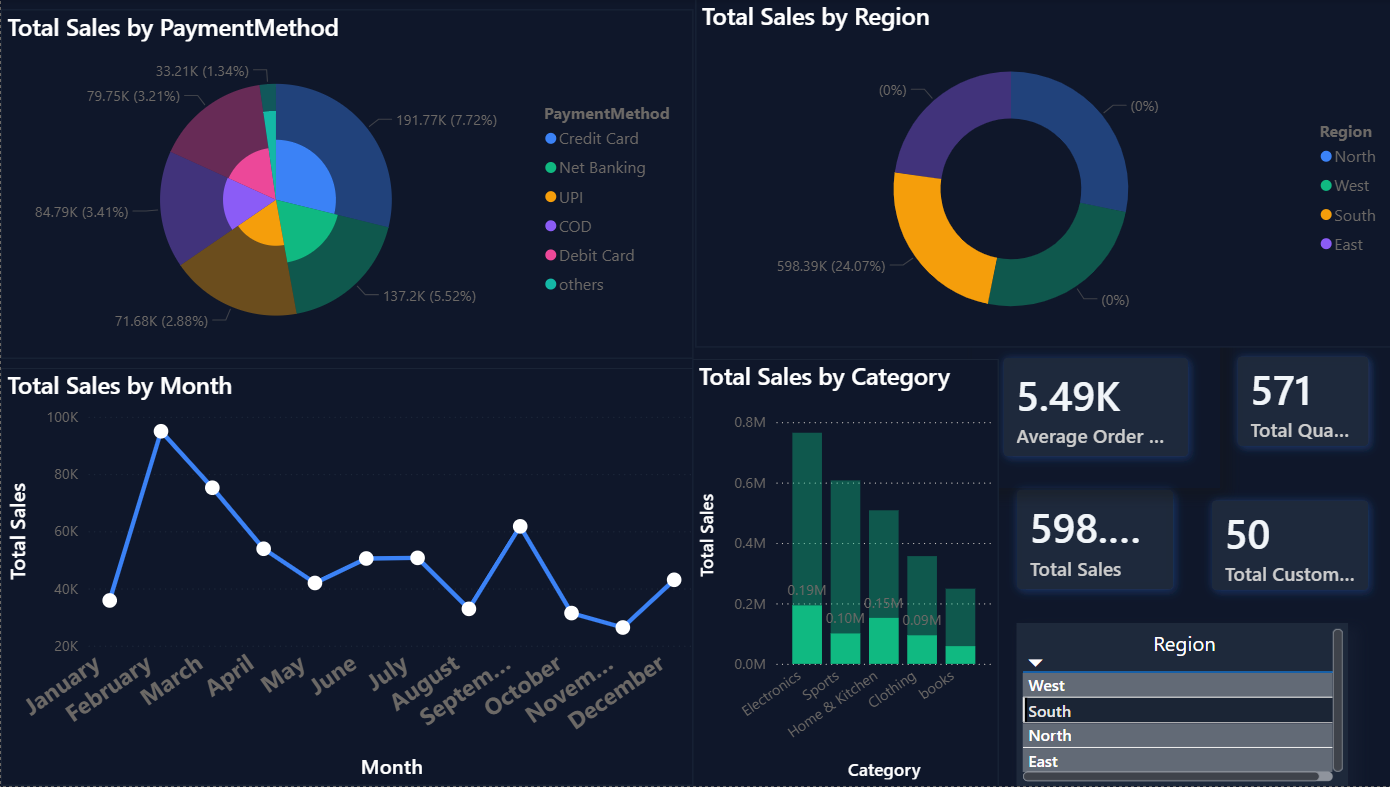

What the dashboard file says about the page in this screenshot:
{"tool":"powerbi","page":{"name":"Page 1","canvas":[1280,720],"ordinal":0},"visuals":[{"type":"cardVisual","fields":{"Data":["Sales_Raw.Total Sales"]},"box":[900.5,420.5,201.6,149.8],"z":0},{"type":"cardVisual","fields":{"Data":["Sales_Raw.Average Order Value"]},"box":[887.8,298.5,227.2,148.3],"z":1000},{"type":"cardVisual","fields":{"Data":["Sales_Raw.Total Quantity"]},"box":[1102.1,297.6,178.6,140.2],"z":2000},{"type":"cardVisual","fields":{"Data":["Sales_Raw.Total Customers"]},"box":[1079,430.1,201.6,140.2],"z":3000},{"type":"lineChart","fields":{"Category":["Sales_Raw.OrderDate.Variation.Date Hierarchy.Month"],"Y":["Sales_Raw.Total Sales"]},"box":[0,338,640,382],"z":4000},{"type":"clusteredColumnChart","fields":{"Category":["Products.Category"],"Y":["Sales_Raw.Total Sales"]},"box":[633.1,328.8,279.7,391.2],"z":5000},{"type":"donutChart","fields":{"Category":["Sales_Raw.Region"],"Y":["Sales_Raw.Total Sales"]},"box":[632,0,648,328],"z":6000},{"type":"pieChart","fields":{"Category":["Sales_Raw.PaymentMethod"],"Y":["Sales_Raw.Total Sales"]},"box":[0,0,632.9,328.8],"z":7000},{"type":"tableEx","fields":{"Values":["Sales_Raw.Region"]},"box":[929.3,570.2,303.4,149.8],"z":8000}]}

Visuals, with their boxes in screenshot pixels (x1, y1, x2, y2), scaled from the page's 1280x720 canvas onto the 1390x787 screenshot:
cardVisual - Sales_Raw.Total Sales: [978, 460, 1197, 623]
cardVisual - Sales_Raw.Average Order Value: [964, 326, 1211, 488]
cardVisual - Sales_Raw.Total Quantity: [1197, 325, 1389, 479]
cardVisual - Sales_Raw.Total Customers: [1172, 470, 1389, 623]
lineChart - Sales_Raw.OrderDate.Variation.Date Hierarchy.Month x Sales_Raw.Total Sales: [0, 369, 695, 786]
clusteredColumnChart - Products.Category x Sales_Raw.Total Sales: [688, 359, 991, 786]
donutChart - Sales_Raw.Region x Sales_Raw.Total Sales: [686, 0, 1389, 359]
pieChart - Sales_Raw.PaymentMethod x Sales_Raw.Total Sales: [0, 0, 687, 359]
tableEx - Sales_Raw.Region: [1009, 623, 1339, 786]
